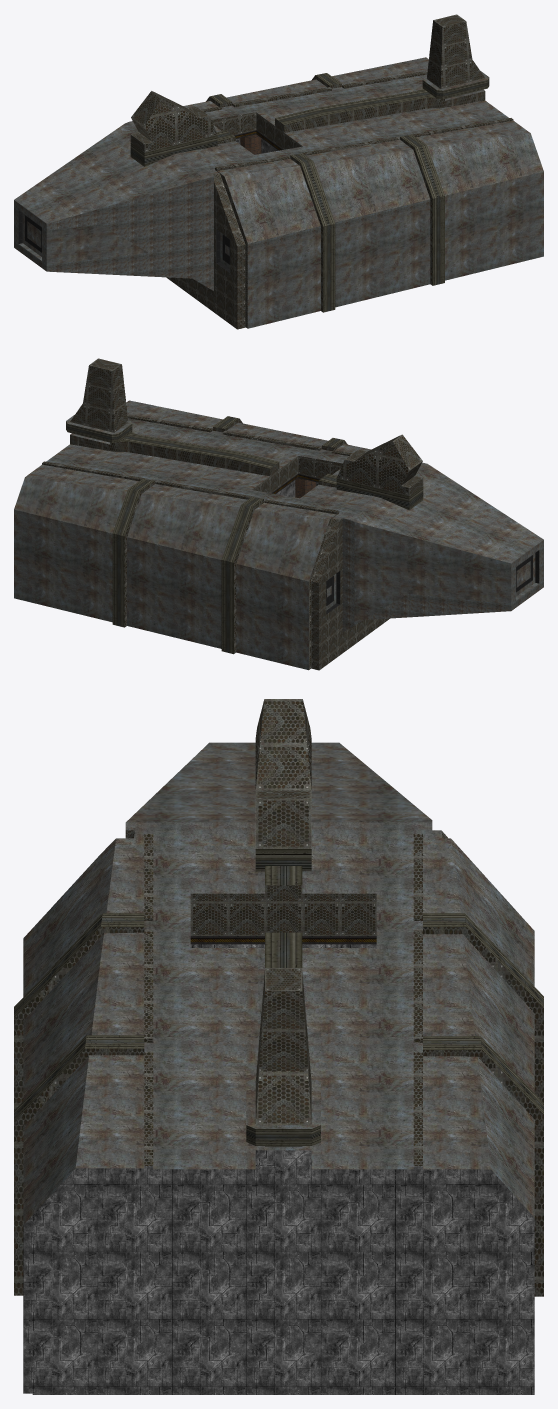
Rendered from fallout_crashedship4.fbx.
The picture shows the model from 3 angles, top to bottom: view 1: azimuth 30°, elevation 25°; view 2: azimuth 150°, elevation 25°; view 3: azimuth 270°, elevation 25°; orthographic projection. The views are drawn at different scales.
Parts seen in each view (by area): view 1: Object; view 2: Object; view 3: Object.
Part boxes in pixels (box(x1,y1,x2,y2)): Object: box(14, 14, 543, 329); Object: box(14, 358, 543, 670); Object: box(14, 699, 543, 1394).
Bounding box in the file's own units: 22400 × 9200 × 11400.
